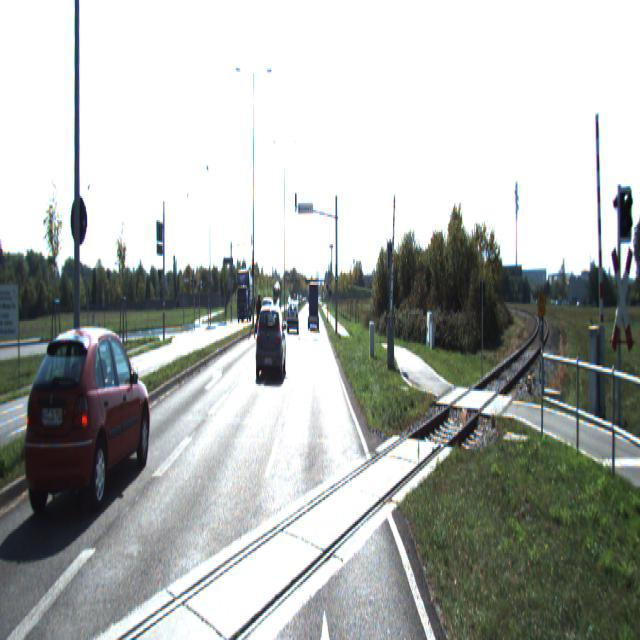Car: (21, 327, 154, 525), (254, 301, 286, 385), (236, 272, 253, 322), (307, 285, 319, 331), (260, 300, 273, 338), (286, 304, 299, 334)
